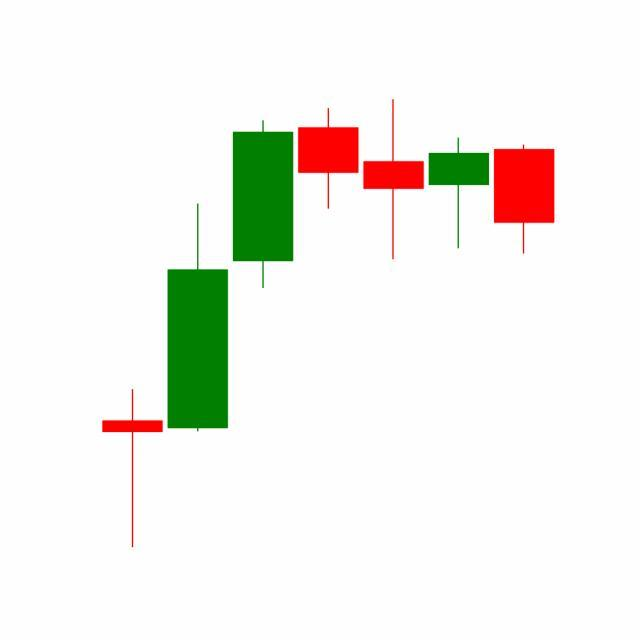Hikkake Pattern: (229, 99, 555, 291)
